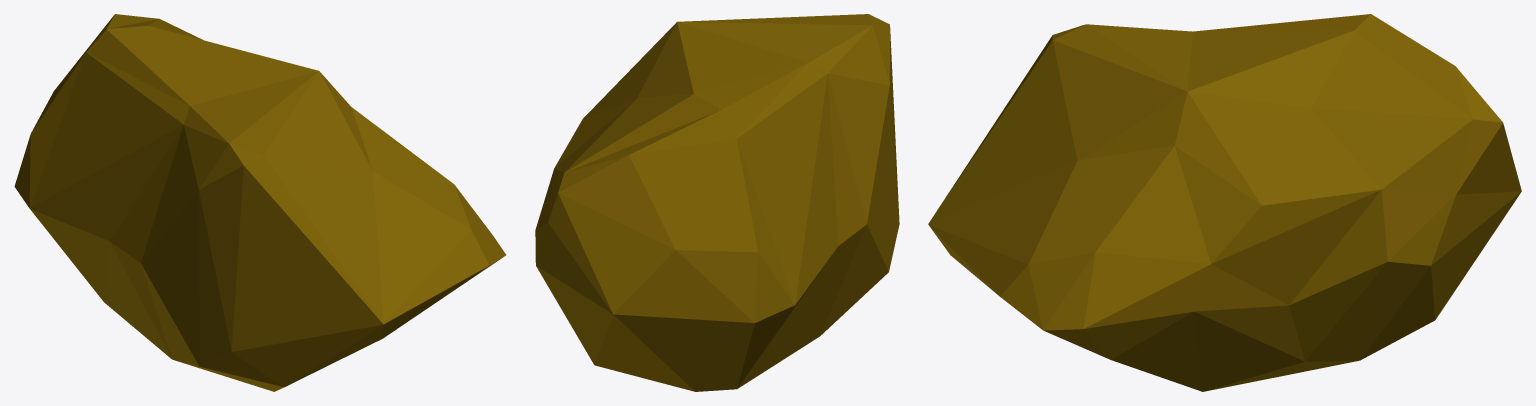
File: Rock_3.fbx
3 views of the same model, side by side, from view 1: azimuth 30°, elevation 25°; view 2: azimuth 150°, elevation 25°; view 3: azimuth 270°, elevation 25° (orthographic). The views are drawn at different scales.
Parts seen in each view (by area): view 1: Rock_Div_3; view 2: Rock_Div_3; view 3: Rock_Div_3.
Part boxes in pixels (left/top/right/bottom): Rock_Div_3: left=14, top=14, right=505, bottom=391; Rock_Div_3: left=535, top=14, right=899, bottom=391; Rock_Div_3: left=928, top=14, right=1521, bottom=391.
Bounding box in the file's own units: 11.14 × 9.4 × 16.36.
